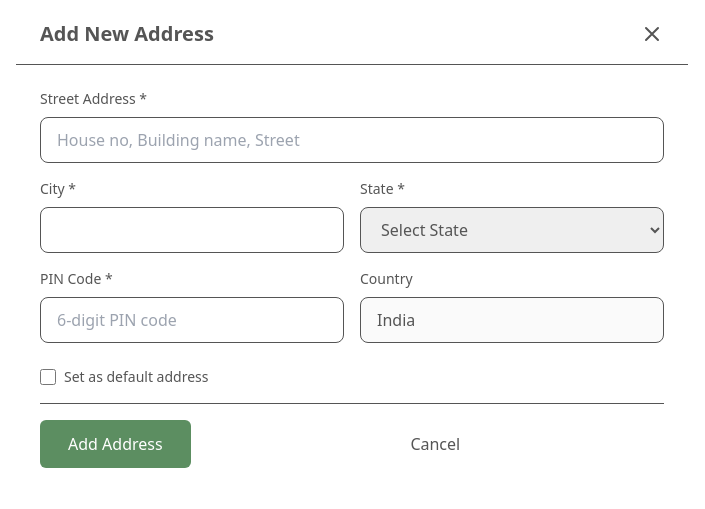
Scenario: AddressFormModal › Unit Tests › should validate form inputs
Fill other fields first
Type "123 Main St" into the field with placeholder "House no, Building name, Street". click: (352, 140)
box: [40,117,664,163]
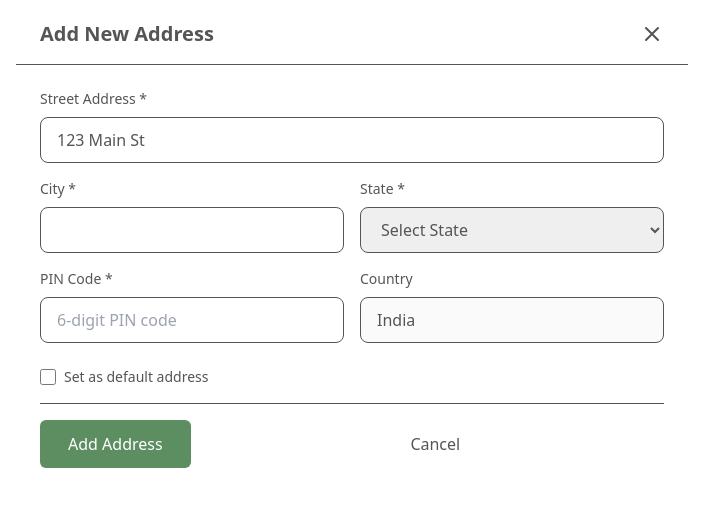
Type "Mumbai" into the field labelled "City *". click: (192, 230)
box: [40,207,344,253]
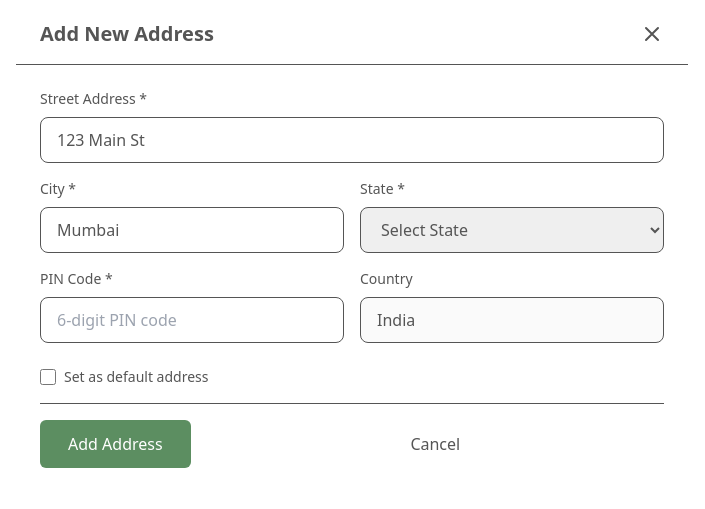
Select "Maharashtra" in the dropdown labelled "State *". click: (512, 230)
box: [360,207,664,253]
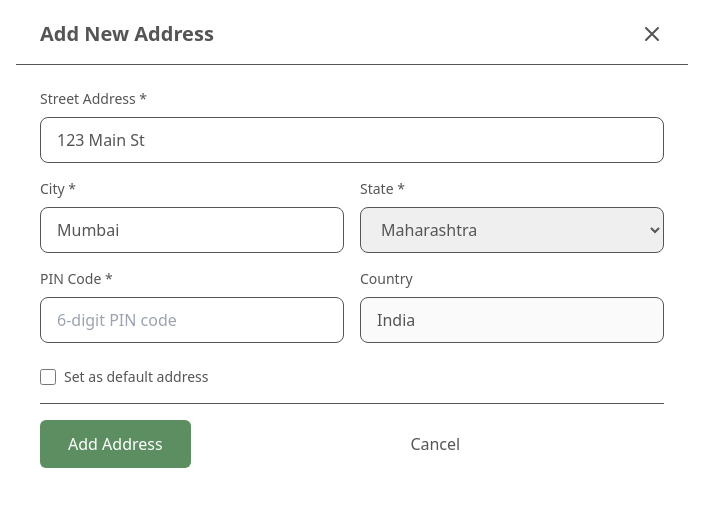
Invalid PIN
Type "12345" into the field with placeholder "6-digit PIN code". click: (192, 320)
box: [40,297,344,343]
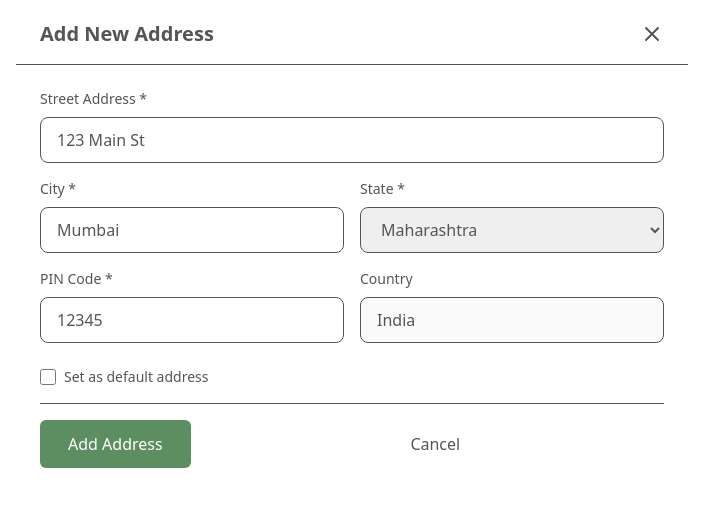
Submit the form
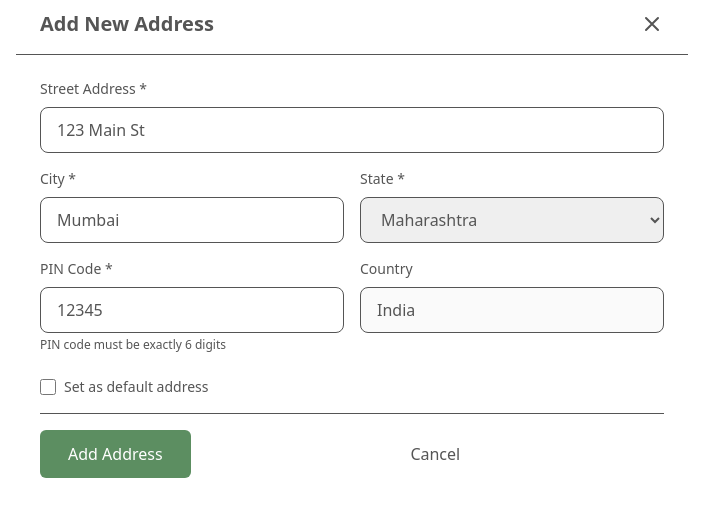
Now the text "PIN code must be exactly 6 digits" is shown, box [40,336,226,353]
